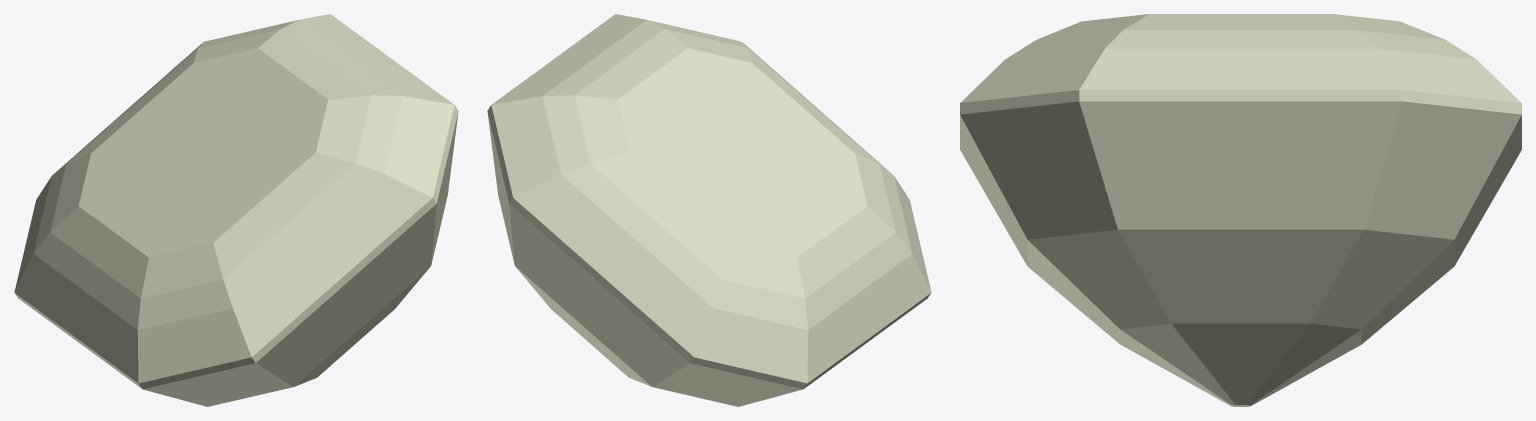
The model's file is asscher-yellow.glb.
3 renders of one model, left to right at view 1: azimuth 30°, elevation 25°; view 2: azimuth 150°, elevation 25°; view 3: azimuth 270°, elevation 25°, orthographic. The views are drawn at different scales.
Parts seen in each view (by area): view 1: [Translucent Glass Blue]; view 2: [Translucent Glass Blue]; view 3: [Translucent Glass Blue].
Part boxes in pixels (left/top/right/bottom): [Translucent Glass Blue]: left=14, top=14, right=458, bottom=406; [Translucent Glass Blue]: left=487, top=14, right=931, bottom=406; [Translucent Glass Blue]: left=960, top=14, right=1521, bottom=406.
Bounding box in the file's own units: 0.1778 × 0.1509 × 0.2047.
